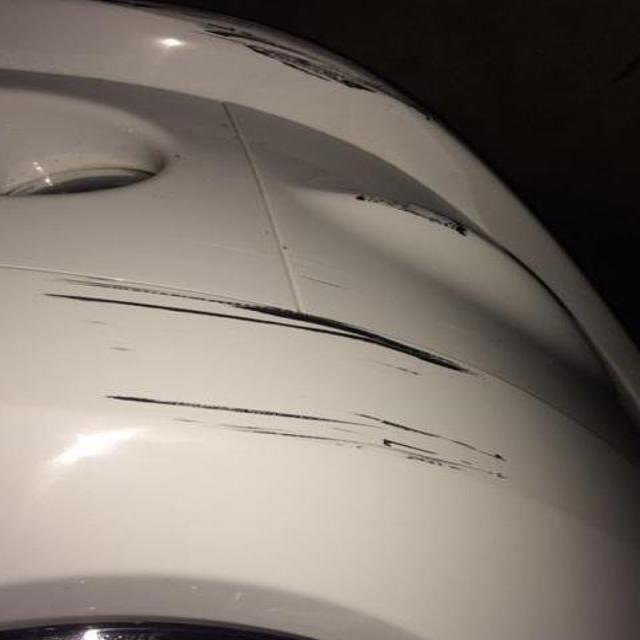scratch: (168, 9, 460, 125), (348, 181, 480, 255)
